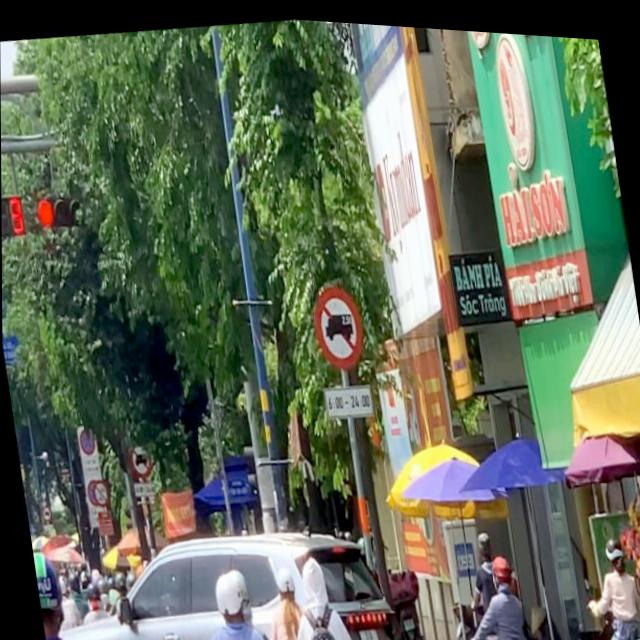Cam xe tai tren 2_5: (306, 269, 366, 370)
